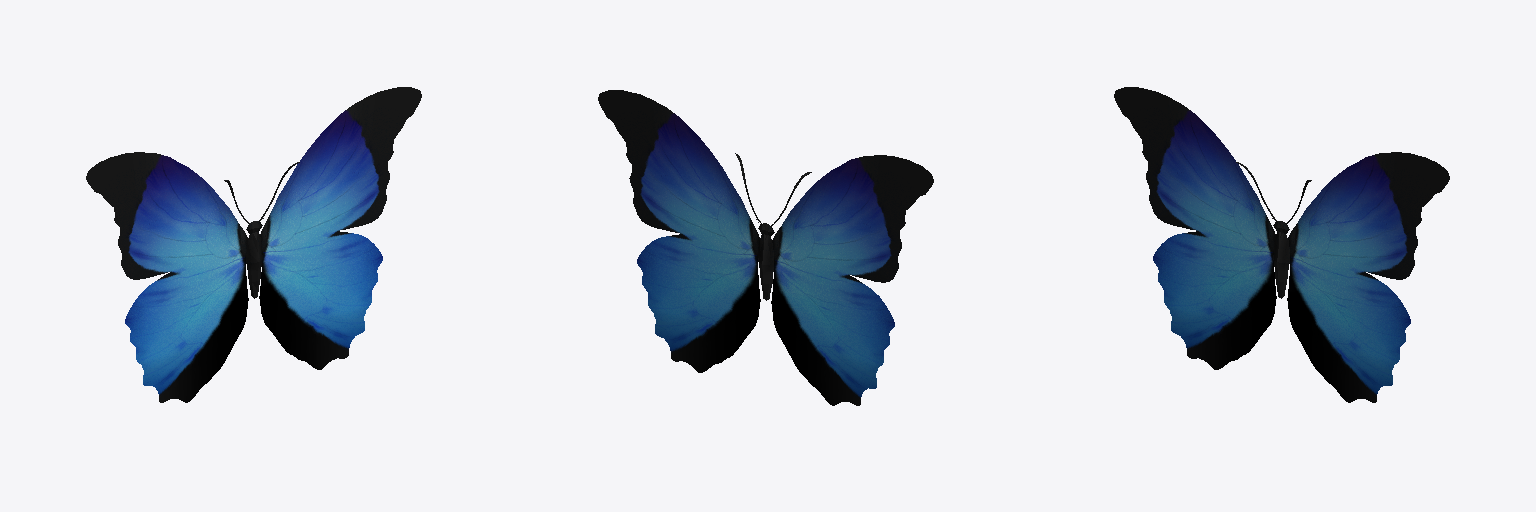
The picture shows the model from 3 angles: view 1: azimuth 30°, elevation 25°; view 2: azimuth 150°, elevation 25°; view 3: azimuth 330°, elevation 25°; orthographic projection.
Bounding box in the file's own units: 14.52 × 10.92 × 0.88.
Materials: 3 (1 with a texture image).